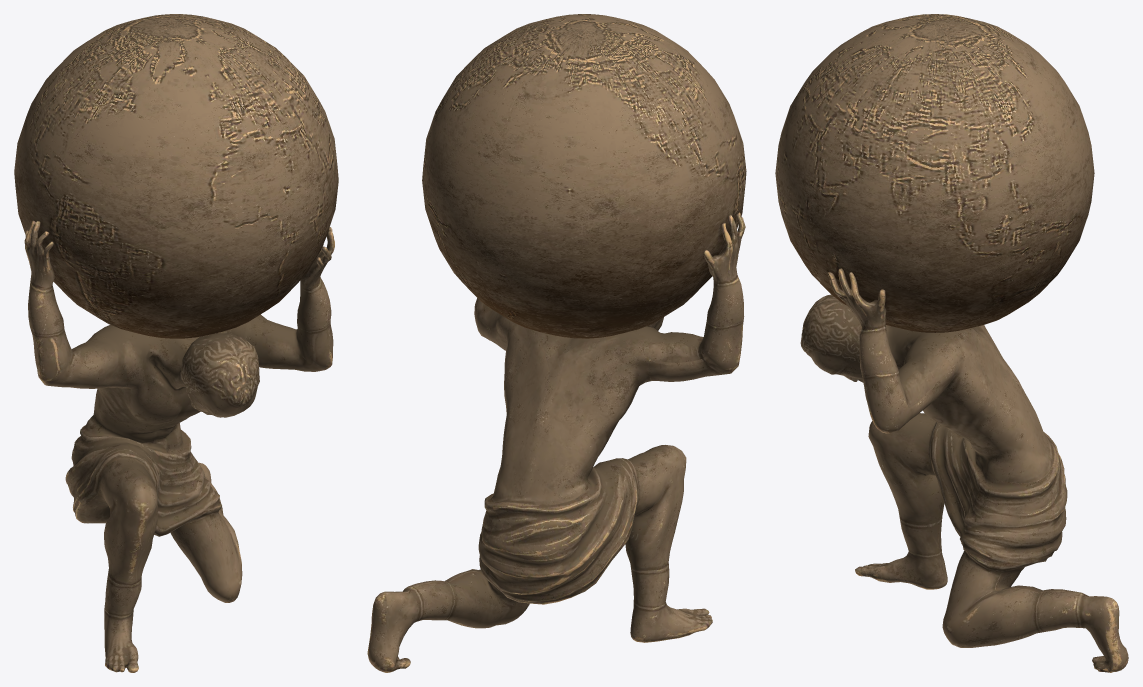
Rendered from atlas-transformed.glb.
3 renders of one model, left to right at view 1: azimuth 30°, elevation 25°; view 2: azimuth 150°, elevation 25°; view 3: azimuth 270°, elevation 25°, orthographic.
Parts seen in each view (by area): view 1: Group1; view 2: Group1; view 3: Group1.
Boxes of the visible parts, <box> form: Group1: <box>14,14,338,672</box>; Group1: <box>367,14,746,672</box>; Group1: <box>775,14,1128,672</box>.
Size of the model in its own units: 103 by 202 by 109.
2 materials, 2 textured.
